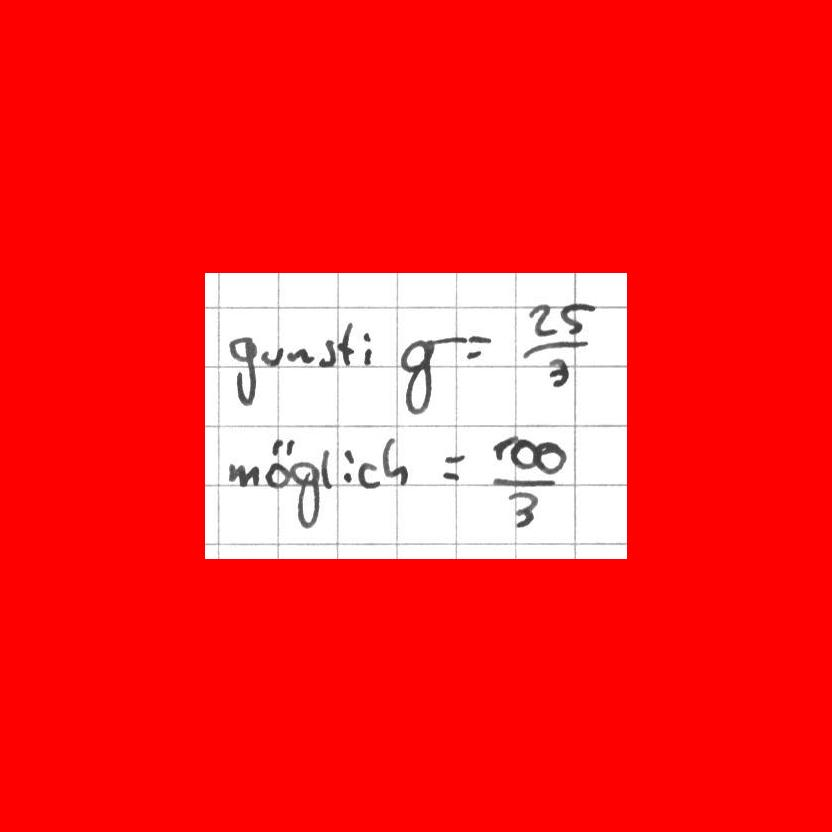Char: (398, 339, 444, 412), (290, 454, 320, 537), (227, 334, 258, 408), (263, 437, 294, 489), (521, 335, 588, 356), (557, 300, 596, 336), (381, 435, 407, 486), (506, 491, 540, 529), (534, 437, 566, 477), (490, 475, 558, 491), (458, 330, 489, 362), (227, 460, 261, 488), (440, 450, 467, 484), (528, 301, 554, 334), (509, 438, 535, 470), (337, 320, 354, 367), (490, 432, 515, 463), (546, 356, 568, 390), (357, 459, 381, 489), (319, 448, 335, 489), (318, 336, 337, 369), (261, 344, 285, 367), (360, 328, 373, 365), (289, 345, 313, 365), (343, 449, 355, 485)
